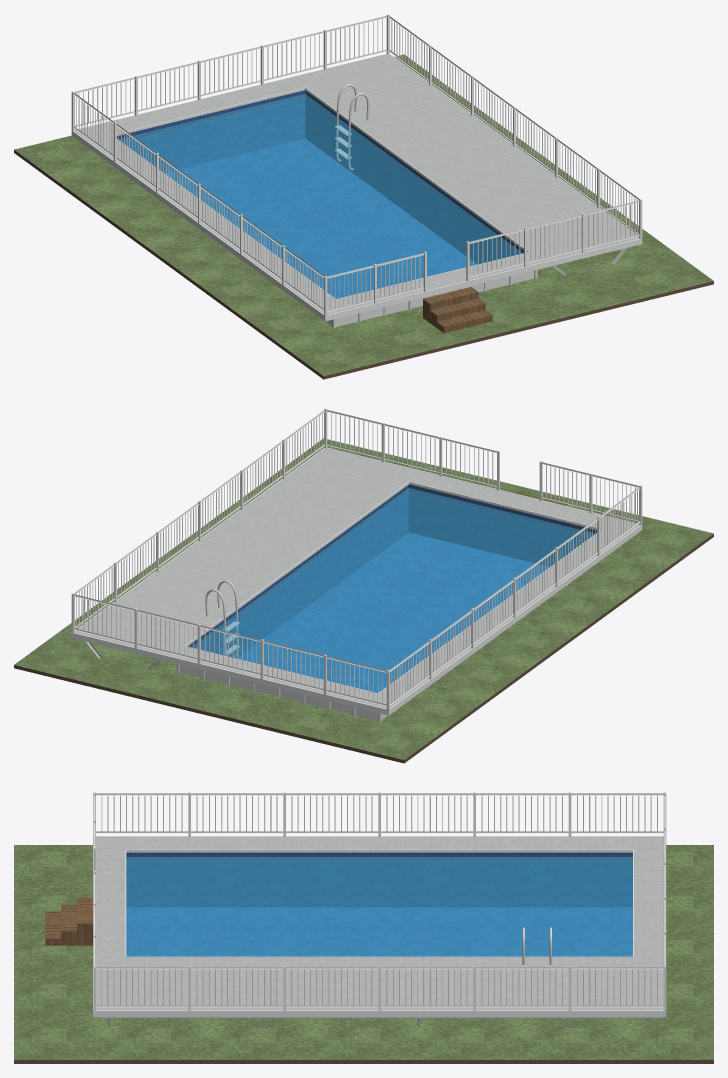
Rendered from kayak-pool-16x32-white-side-rec-fence.0611956ff6.glb.
3 views of the same model, one above another, from view 1: azimuth 30°, elevation 25°; view 2: azimuth 150°, elevation 25°; view 3: azimuth 270°, elevation 25° (orthographic). The views are drawn at different scales.
Visible parts, largest first — view 1: water, ground, deck, liner_floor, fence, liner_wall, fascia, soil, steps, wall, steel; view 2: water, ground, deck, liner_floor, fence, liner_wall, fascia, soil, wall, steel; view 3: water, ground, deck, liner_wall, liner_floor, fence, fascia, soil, steps, stud.
Boxes of the visible parts, box(x1,y1,x2,y2) form: water: box(119, 94, 522, 298); ground: box(14, 54, 713, 375); deck: box(74, 54, 639, 314); liner_floor: box(164, 138, 476, 298); fence: box(71, 14, 642, 315); liner_wall: box(117, 90, 523, 263); fascia: box(71, 53, 642, 321); soil: box(14, 150, 713, 379); steps: box(423, 287, 492, 333); wall: box(326, 270, 534, 326); steel: box(334, 84, 369, 170); water: box(191, 488, 594, 692); ground: box(14, 438, 713, 759); deck: box(75, 448, 639, 708); liner_floor: box(238, 532, 549, 692); fence: box(71, 408, 642, 709); liner_wall: box(188, 484, 596, 658); fascia: box(71, 447, 642, 715); soil: box(14, 534, 713, 763); wall: box(179, 664, 387, 720); steel: box(205, 580, 239, 657); water: box(126, 857, 632, 956); ground: box(14, 845, 713, 1059); deck: box(96, 836, 663, 1010); liner_wall: box(126, 852, 632, 907); liner_floor: box(126, 907, 632, 956); fence: box(93, 792, 666, 1010); fascia: box(93, 836, 666, 1016); soil: box(14, 1060, 713, 1063); steps: box(45, 897, 92, 945); stud: box(94, 1017, 664, 1026).
Bounding box in the file's own units: 9.75 × 2.15 × 13.4.
Materials: 13 (5 with a texture image).
